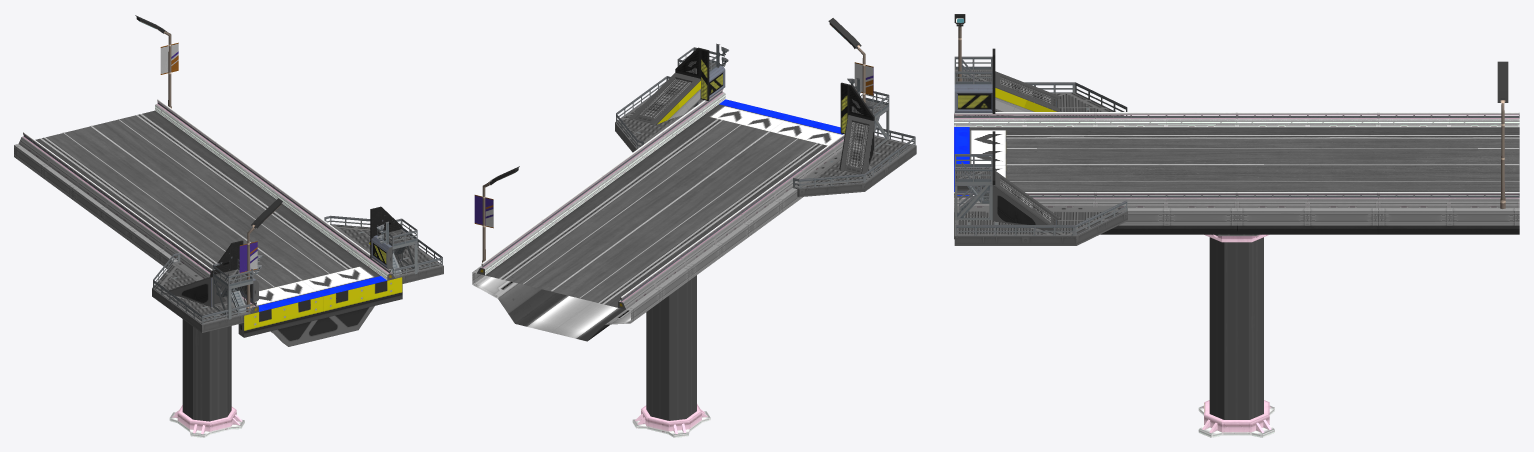
The model's file is T19 - Jump.fbx.
3 views of the same model, side by side, from view 1: azimuth 30°, elevation 25°; view 2: azimuth 150°, elevation 25°; view 3: azimuth 270°, elevation 25° (orthographic). The views are drawn at different scales.
Parts seen in each view (by area): view 1: nar_road_straight, Jump_gate, nar_wall_elevated_straight, frontplate_jump, support_pylon, flt_lines_jump, nar_bridge, support_ground, pro_streetlight_banner_1, pro_streetlight_banner; view 2: nar_road_straight, Jump_gate, nar_bridge, nar_wall_elevated_straight, support_pylon, flt_lines_jump, support_ground, pro_streetlight_banner, pro_streetlight_banner_1; view 3: nar_road_straight, nar_wall_elevated_straight, Jump_gate, nar_bridge, support_pylon, flt_lines_jump, support_ground, pro_streetlight_banner.
Boxes of the visible parts, x1,y1,x2,y2 form: nar_road_straight: [35, 110, 380, 290]; Jump_gate: [152, 206, 443, 332]; nar_wall_elevated_straight: [18, 99, 395, 313]; frontplate_jump: [238, 277, 402, 346]; support_pylon: [182, 319, 231, 421]; flt_lines_jump: [63, 119, 386, 311]; nar_bridge: [14, 144, 272, 332]; support_ground: [169, 405, 244, 437]; pro_streetlight_banner_1: [239, 198, 282, 312]; pro_streetlight_banner: [135, 15, 178, 109]; nar_road_straight: [485, 104, 826, 307]; Jump_gate: [615, 43, 916, 197]; nar_bridge: [472, 188, 802, 341]; nar_wall_elevated_straight: [477, 89, 844, 309]; support_pylon: [646, 275, 696, 420]; flt_lines_jump: [523, 99, 843, 298]; support_ground: [632, 404, 710, 437]; pro_streetlight_banner: [474, 166, 519, 262]; pro_streetlight_banner_1: [828, 18, 873, 102]; nar_road_straight: [969, 127, 1519, 195]; nar_wall_elevated_straight: [954, 112, 1519, 208]; Jump_gate: [954, 48, 1127, 245]; nar_bridge: [1100, 208, 1519, 234]; support_pylon: [1209, 237, 1263, 419]; flt_lines_jump: [954, 127, 1519, 195]; support_ground: [1198, 400, 1274, 437]; pro_streetlight_banner: [1497, 61, 1508, 208].
Size of the model in its own units: 3844 by 4791 by 6499.
